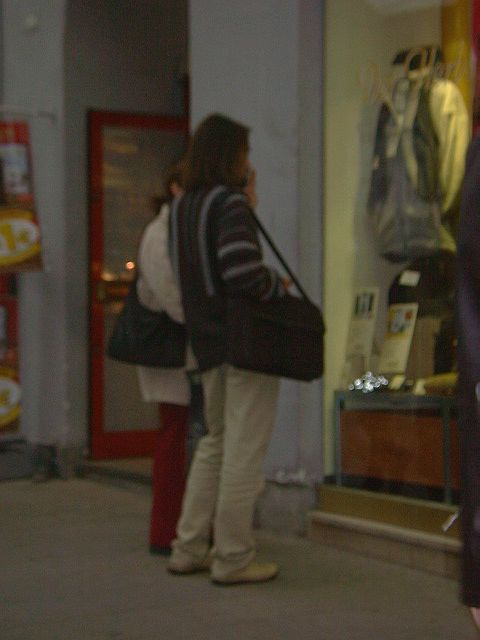person: (161, 120, 289, 589)
